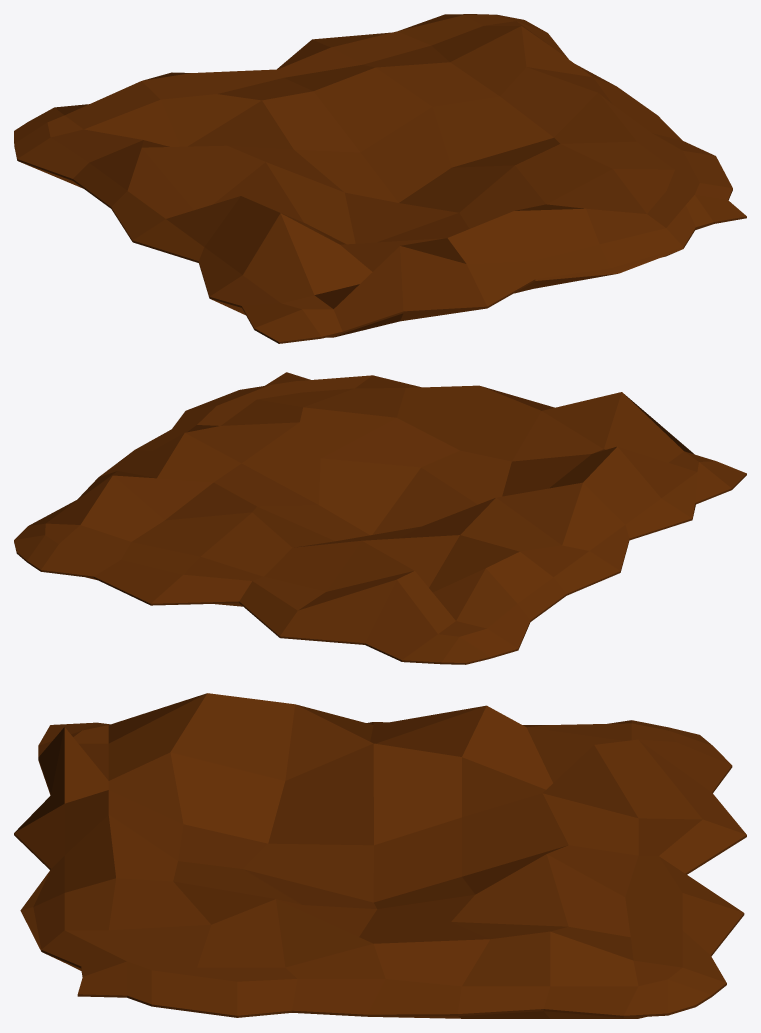
The model's file is Mud.fbx.
The picture shows the model from 3 angles, top to bottom: view 1: azimuth 30°, elevation 25°; view 2: azimuth 150°, elevation 25°; view 3: azimuth 270°, elevation 25°; orthographic projection. The views are drawn at different scales.
Visible parts, largest first — view 1: Cube; view 2: Cube; view 3: Cube.
Part boxes in pixels (left/top/right/bottom): Cube: left=14, top=14, right=746, bottom=343; Cube: left=14, top=372, right=746, bottom=664; Cube: left=14, top=693, right=746, bottom=1018.
Size of the model in its own units: 198 by 57.47 by 207.
